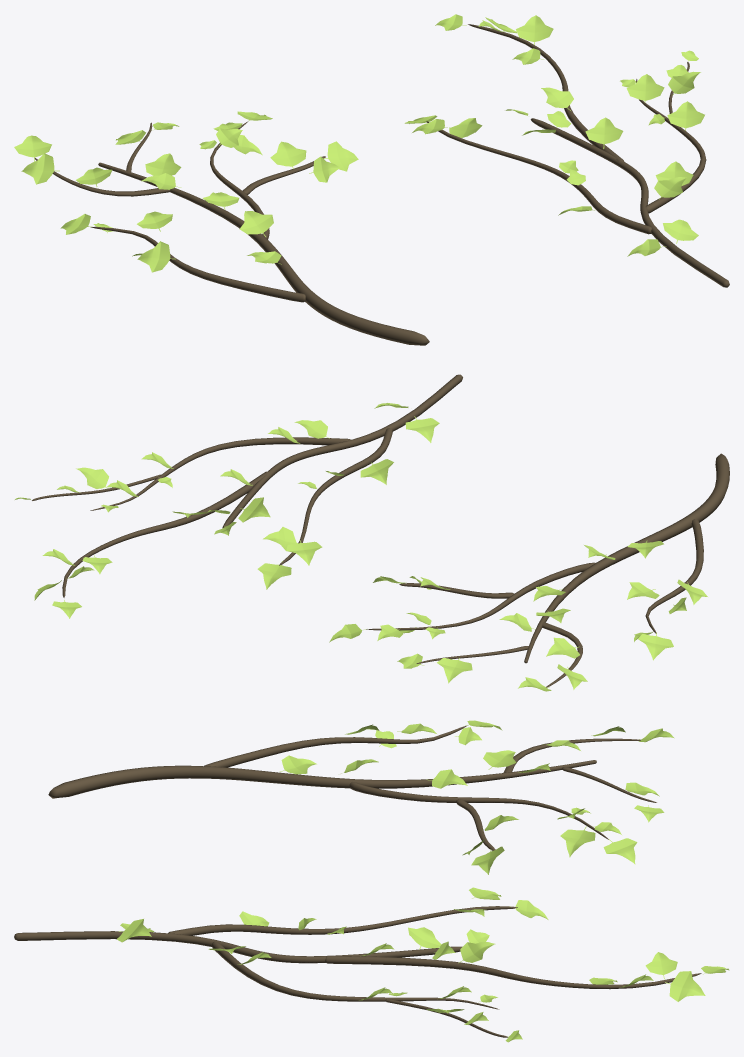
File: Vines.fbx
3 renders of one model, top to bottom at view 1: azimuth 30°, elevation 25°; view 2: azimuth 150°, elevation 25°; view 3: azimuth 270°, elevation 25°, orthographic. The views are drawn at different scales.
Visible parts, largest first — view 1: pPlane54, pPlane55; view 2: pPlane55, pPlane54; view 3: pPlane54, pPlane55.
Boxes of the visible parts, <box> form: pPlane54: <box>14,111,429,345</box>; pPlane55: <box>404,14,729,287</box>; pPlane55: <box>15,374,462,618</box>; pPlane54: <box>329,453,729,691</box>; pPlane54: <box>48,720,674,874</box>; pPlane55: <box>14,887,729,1042</box>.
Size of the model in its own units: 890 by 53.37 by 821.
